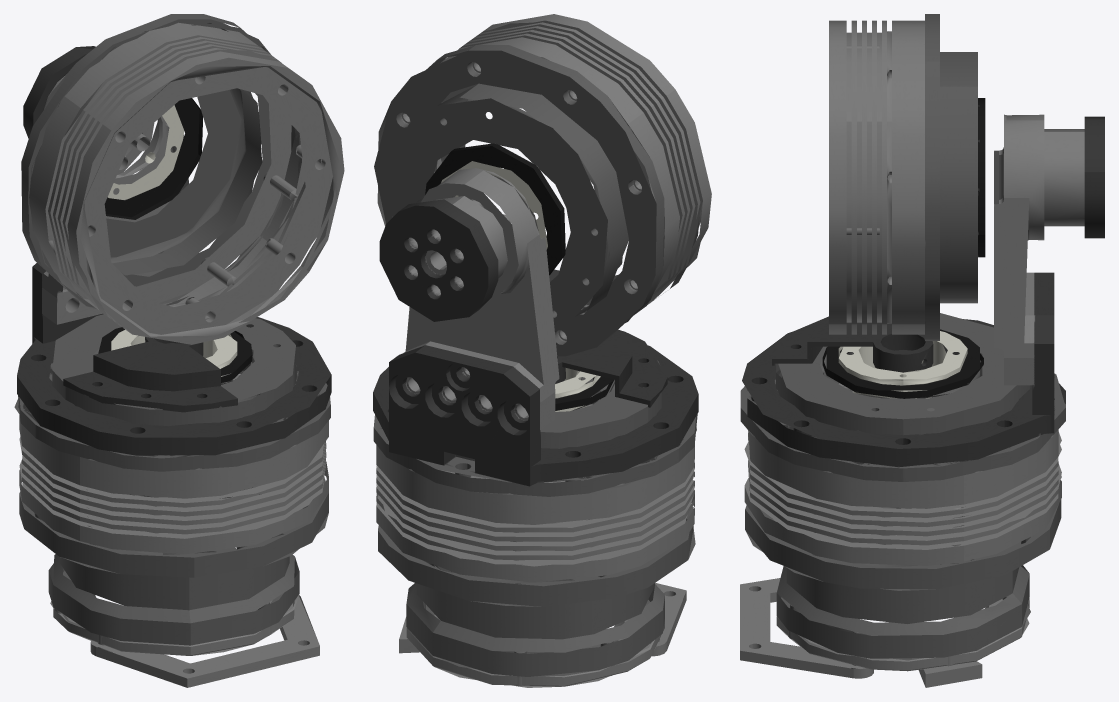
The model's file is arml_elb1_joint.obj.
3 views of the same model, side by side, from view 1: azimuth 30°, elevation 25°; view 2: azimuth 150°, elevation 25°; view 3: azimuth 270°, elevation 25° (orthographic). The views are drawn at different scales.
Bounding box in the file's own units: 0.065 × 0.1316 × 0.0724.
Materials: 1 (1 with a texture image).
